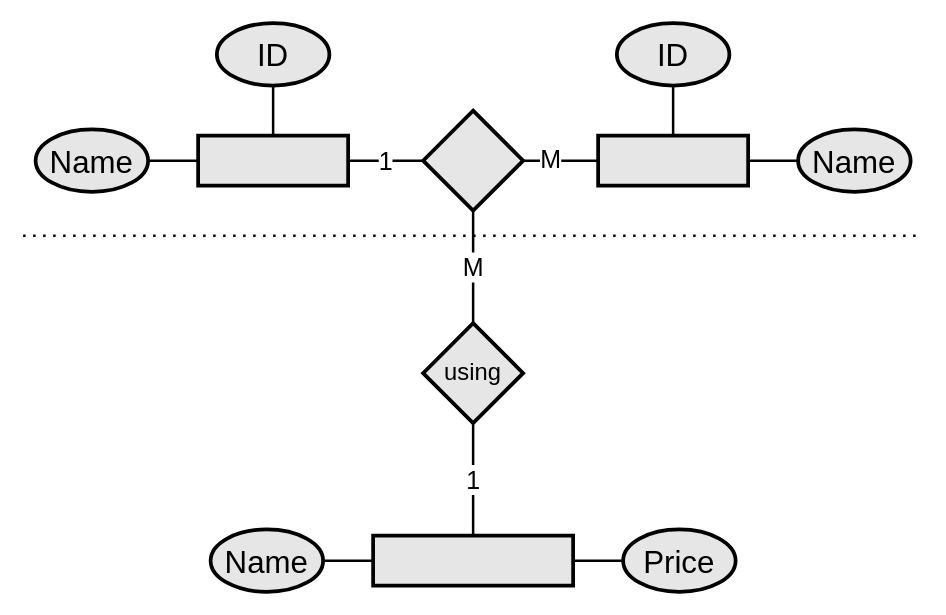
This 946x615 diagram has some shape labels left out. Each missing label, with the centre of its shape:
Doctor: the point at 272,160
Medicine: the point at 472,560
Patient: the point at 672,160
treats: the point at 472,160
